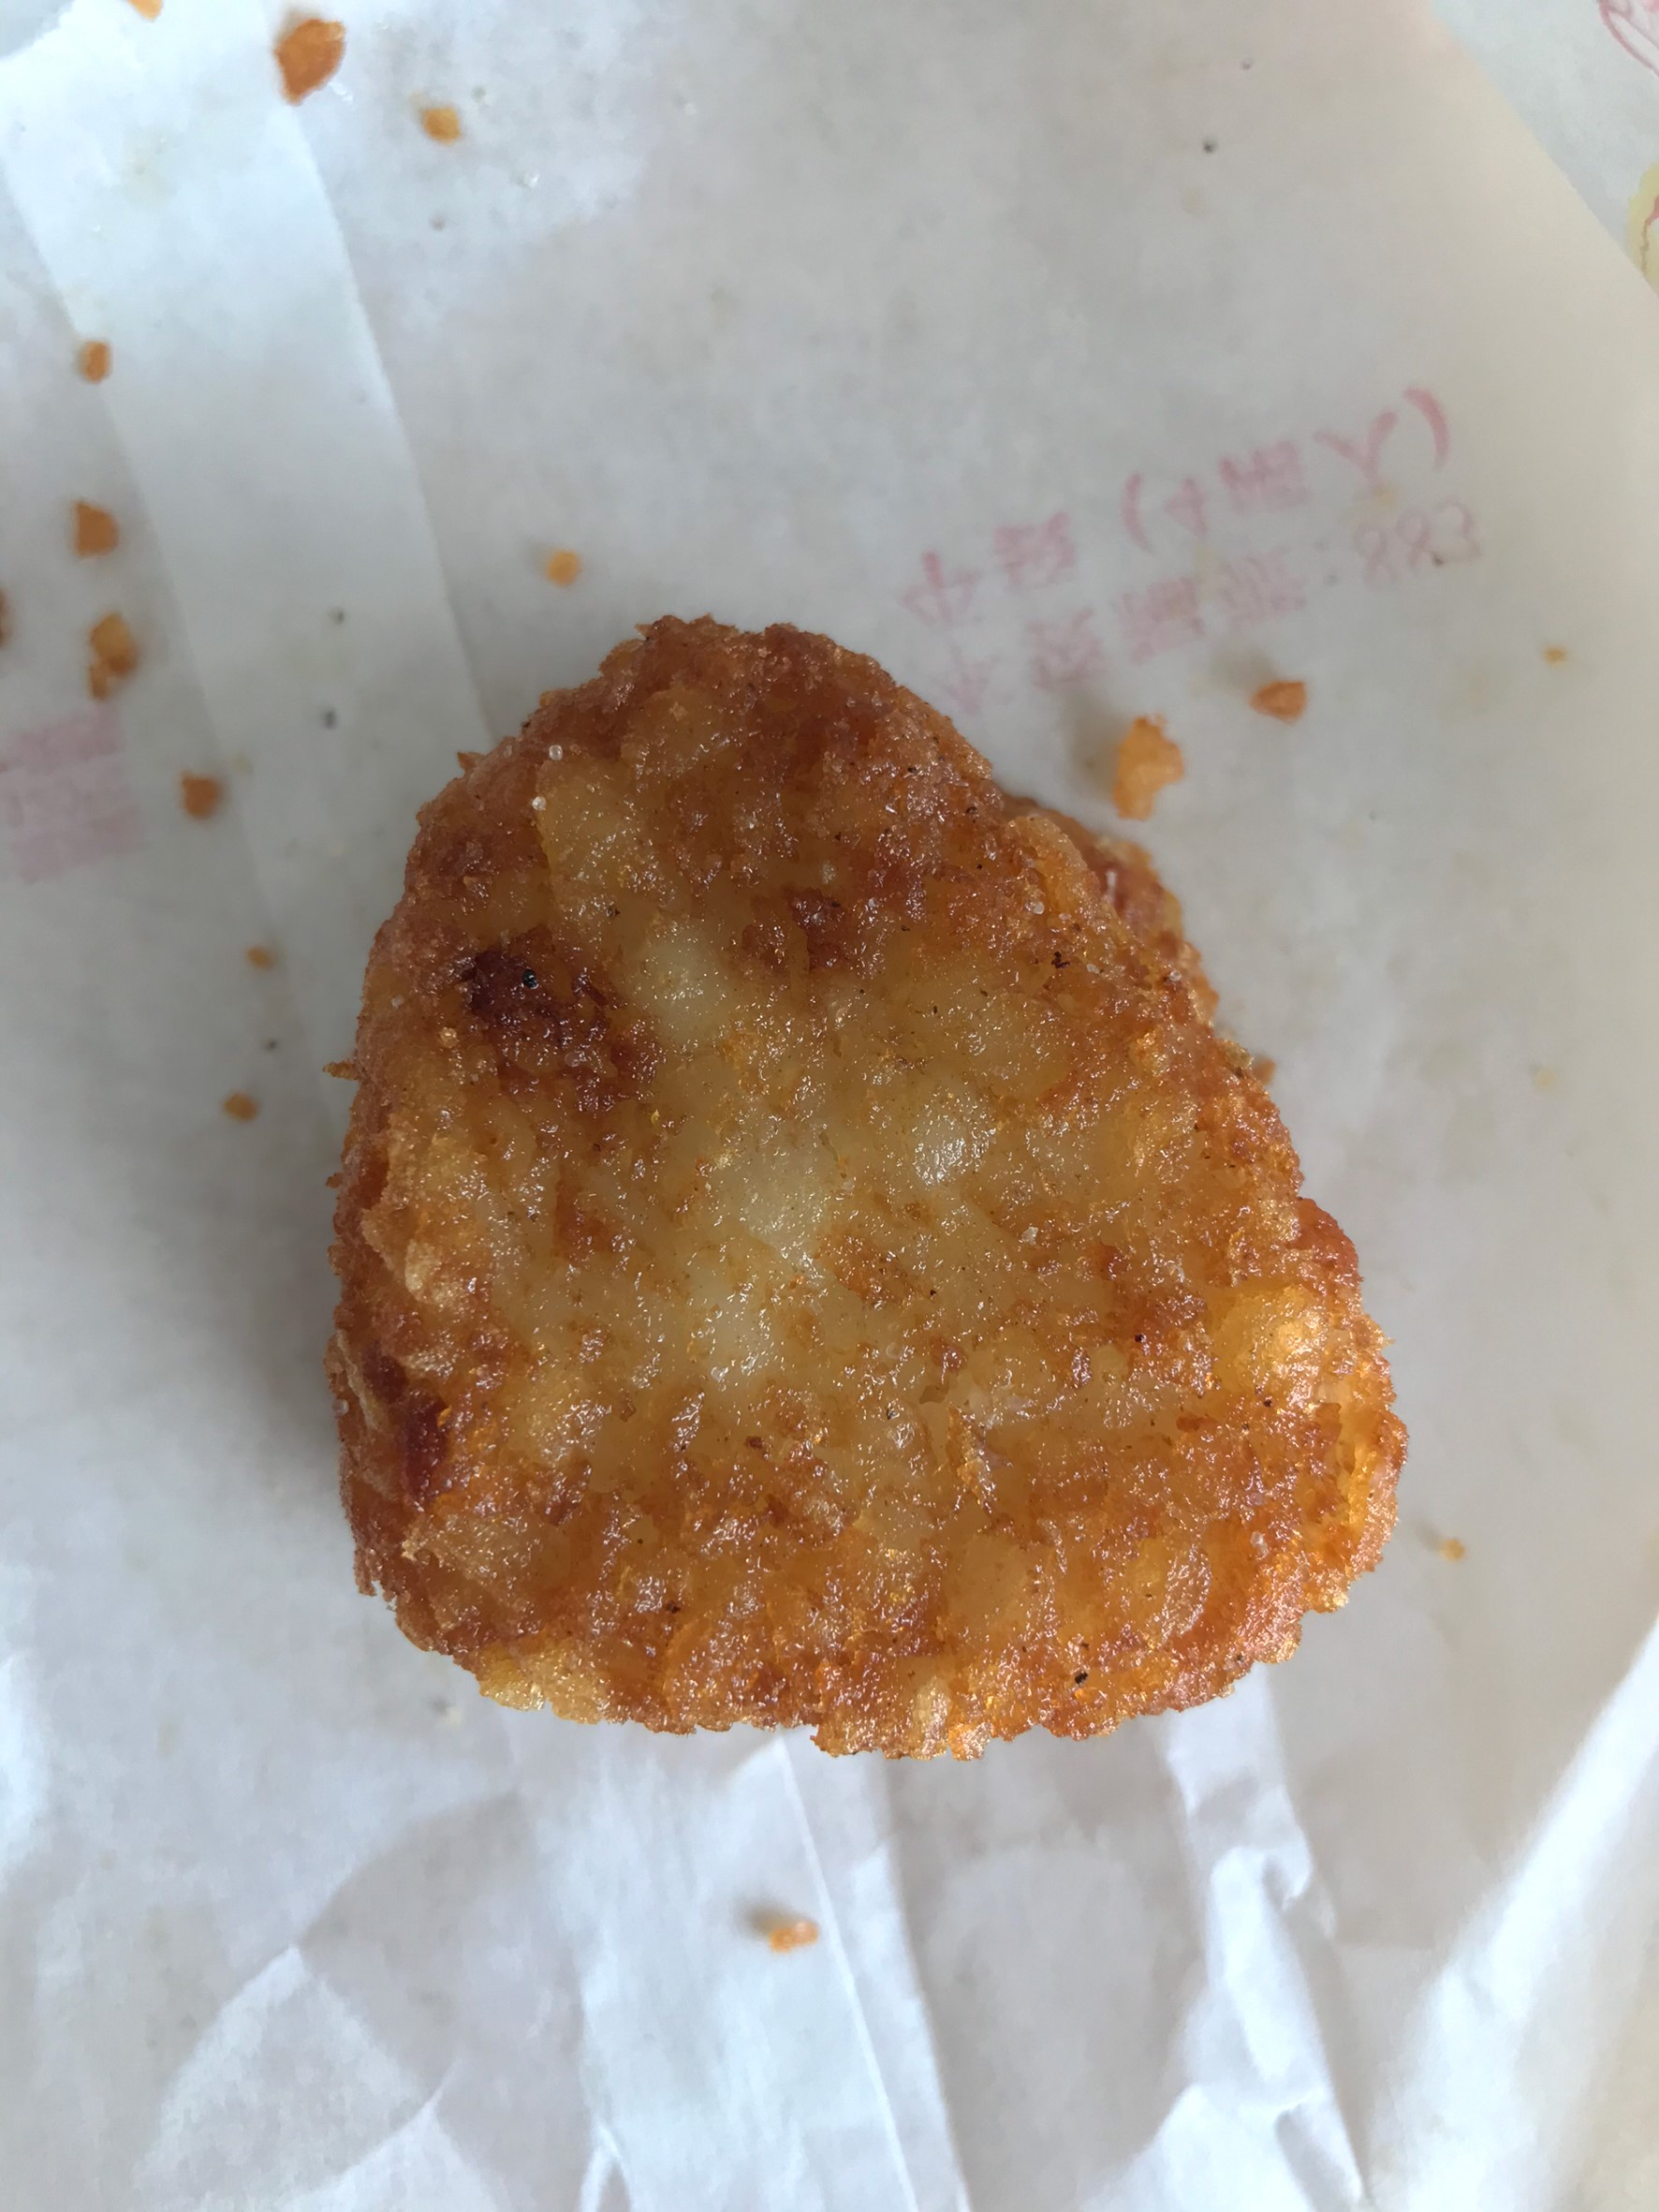triangle_hash_brown: (321, 594, 1422, 1754)
